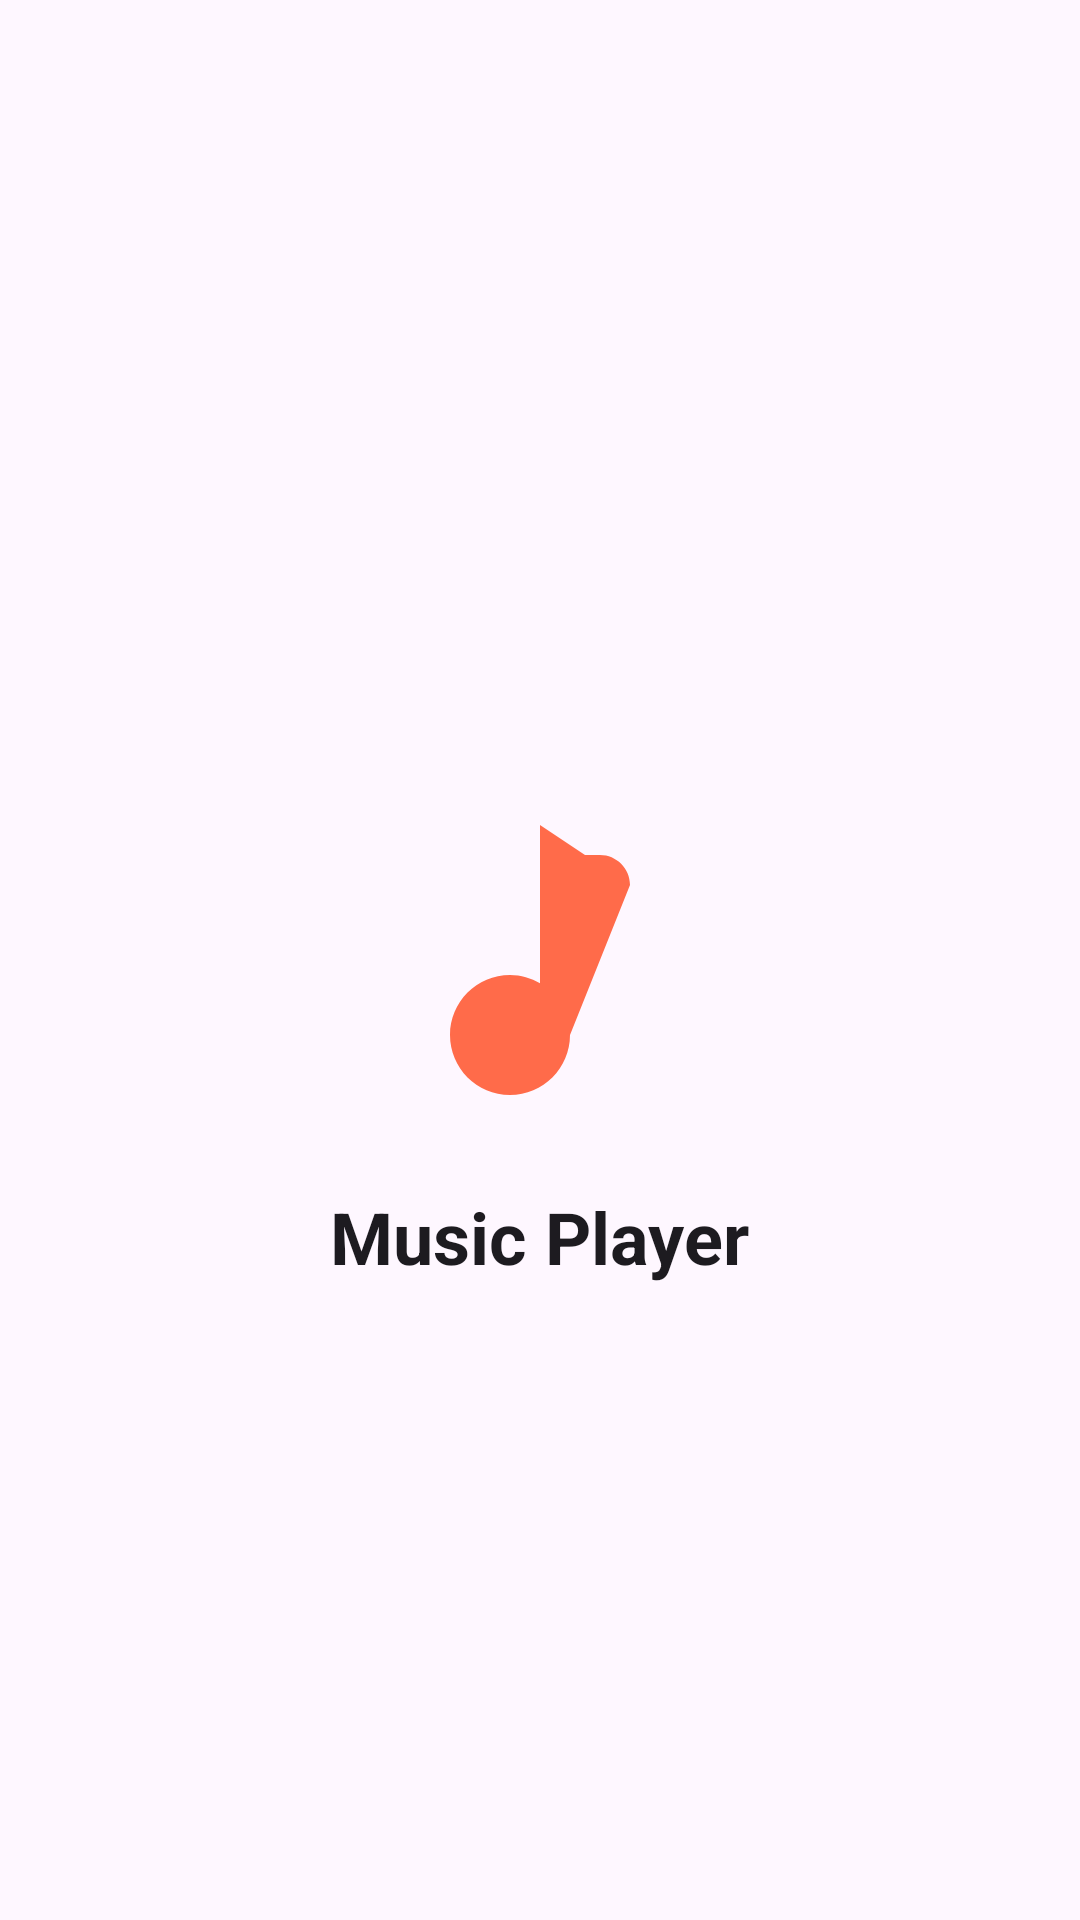

Locate icon controls on the screen. Image size 1080×1920, boxes as (x1, y1, x2, y2).
music note: (450, 825, 630, 1095)
